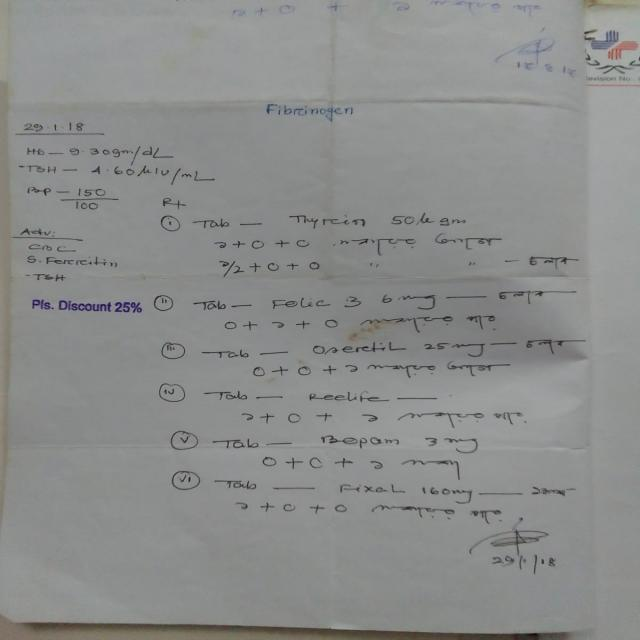Bopam: (320, 426, 405, 454)
Fixal: (331, 476, 401, 501)
Folic: (263, 289, 370, 315)
Osertil: (302, 337, 410, 358)
Reelife: (305, 386, 394, 408)
Thyrin: (277, 207, 376, 232)
